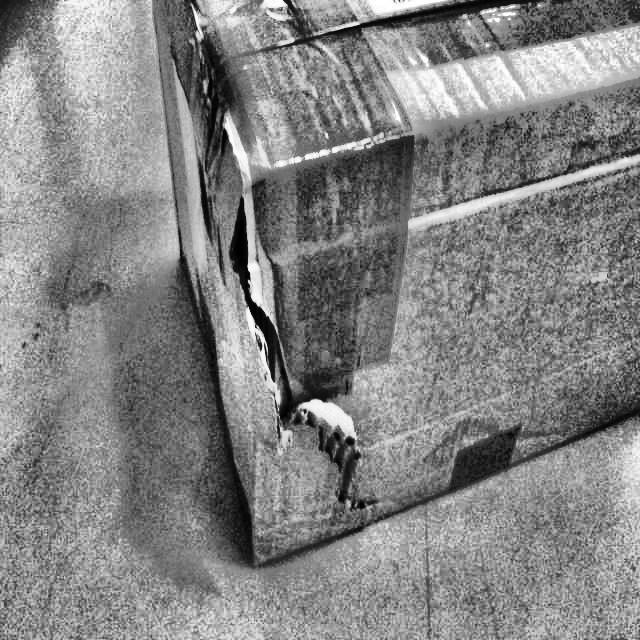box: (143, 0, 639, 577)
hole: (223, 199, 301, 447)
